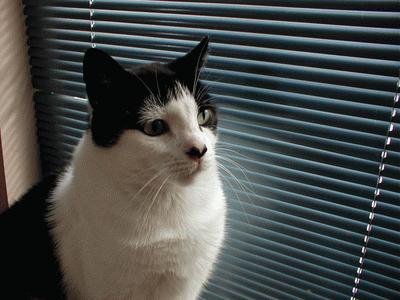cat: (1, 39, 248, 300)
